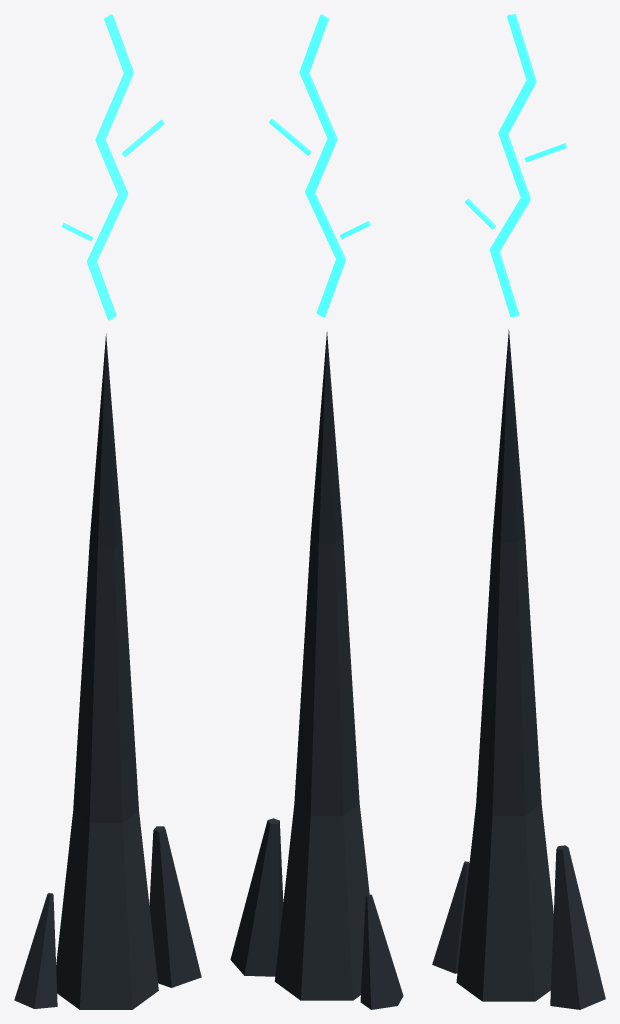
Rendered from decor_spire.glb.
The picture shows the model from 3 angles, left to right: view 1: azimuth 30°, elevation 25°; view 2: azimuth 150°, elevation 25°; view 3: azimuth 330°, elevation 25°; orthographic projection.
Parts seen in each view (by area): view 1: decor_spire; view 2: decor_spire; view 3: decor_spire.
Part boxes in pixels (<box>): decor_spire: <box>14,14,201,1009</box>; decor_spire: <box>230,14,403,1009</box>; decor_spire: <box>432,14,605,1009</box>.
Size of the model in its own units: 6.11 by 32.69 by 3.2.
